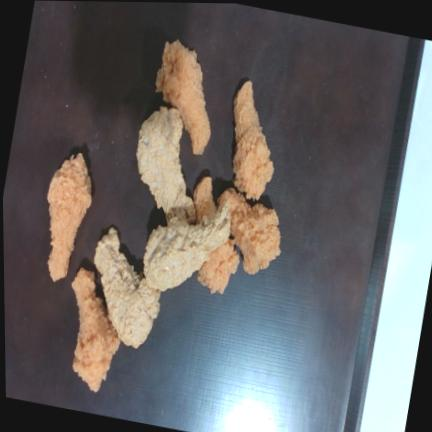chicken: (94, 228, 161, 348), (144, 204, 230, 291), (137, 107, 195, 223), (156, 40, 211, 154), (72, 269, 120, 391), (47, 153, 91, 280), (218, 188, 281, 274), (234, 82, 273, 199), (198, 239, 239, 294)
